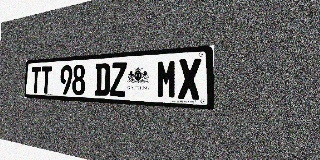8: (72, 64, 86, 95)
9: (60, 65, 72, 95)
D: (95, 63, 110, 96)
M: (156, 59, 177, 99)
T: (41, 66, 52, 94), (31, 66, 41, 93)
X: (178, 58, 201, 100)
Z: (110, 62, 127, 97)
